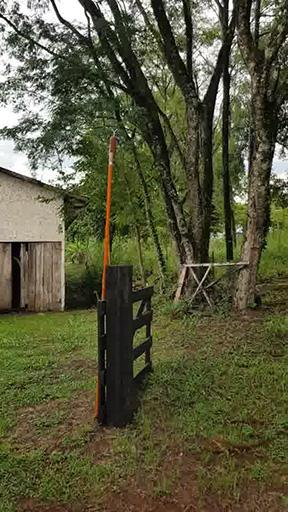Vara_Manobra: (94, 154, 115, 419)
